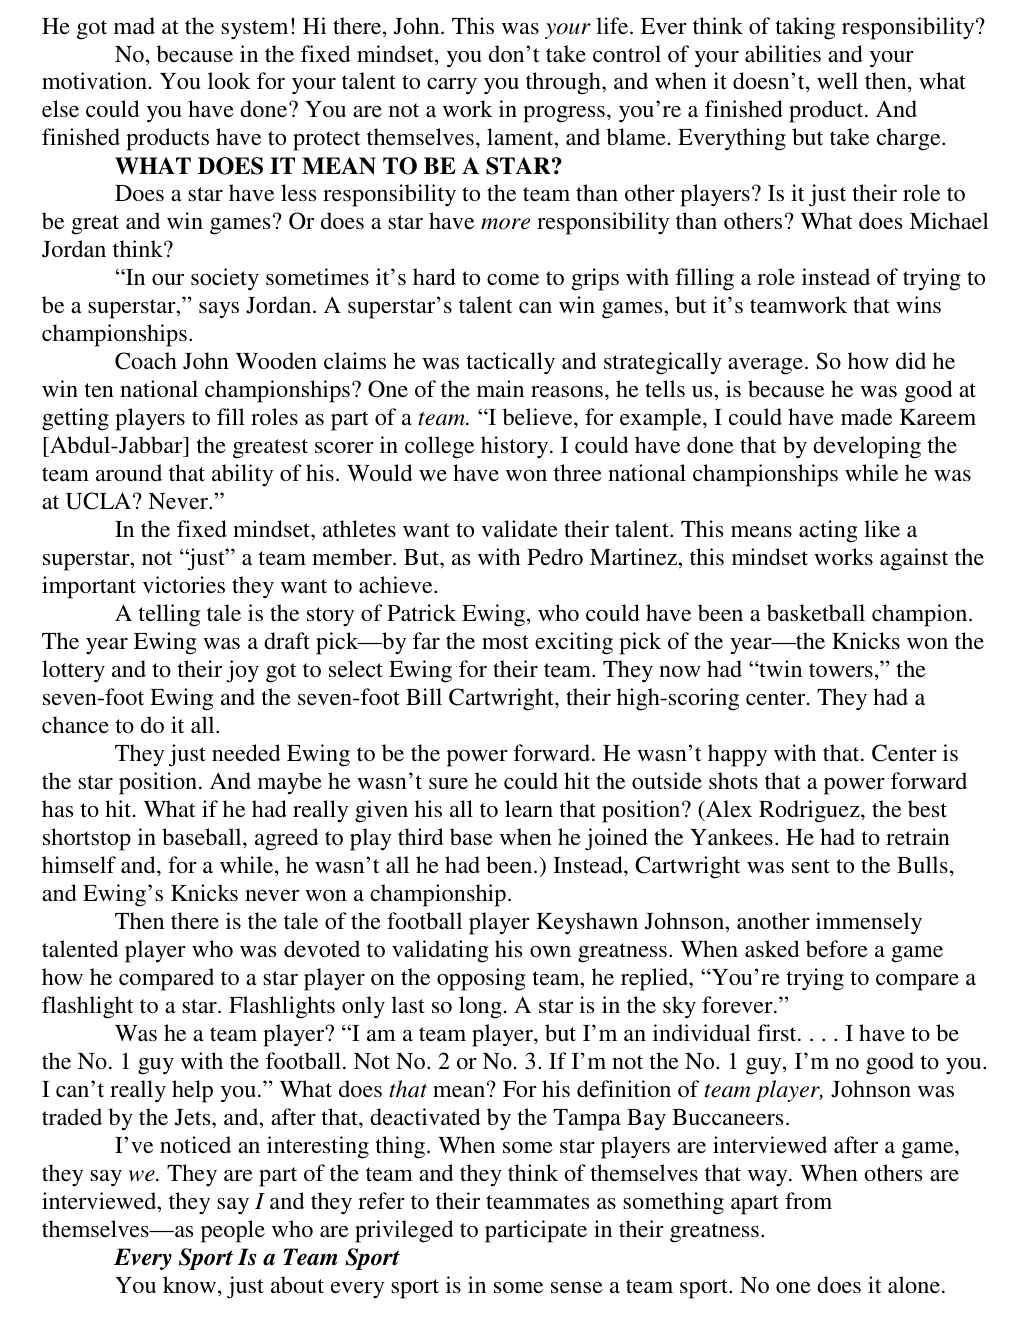latin: (36, 518, 986, 744), (27, 345, 978, 518), (29, 746, 970, 909), (33, 1136, 963, 1300), (40, 8, 988, 150), (24, 910, 982, 1022), (36, 1022, 989, 1133), (38, 180, 994, 263), (34, 261, 986, 345), (114, 153, 562, 183)
